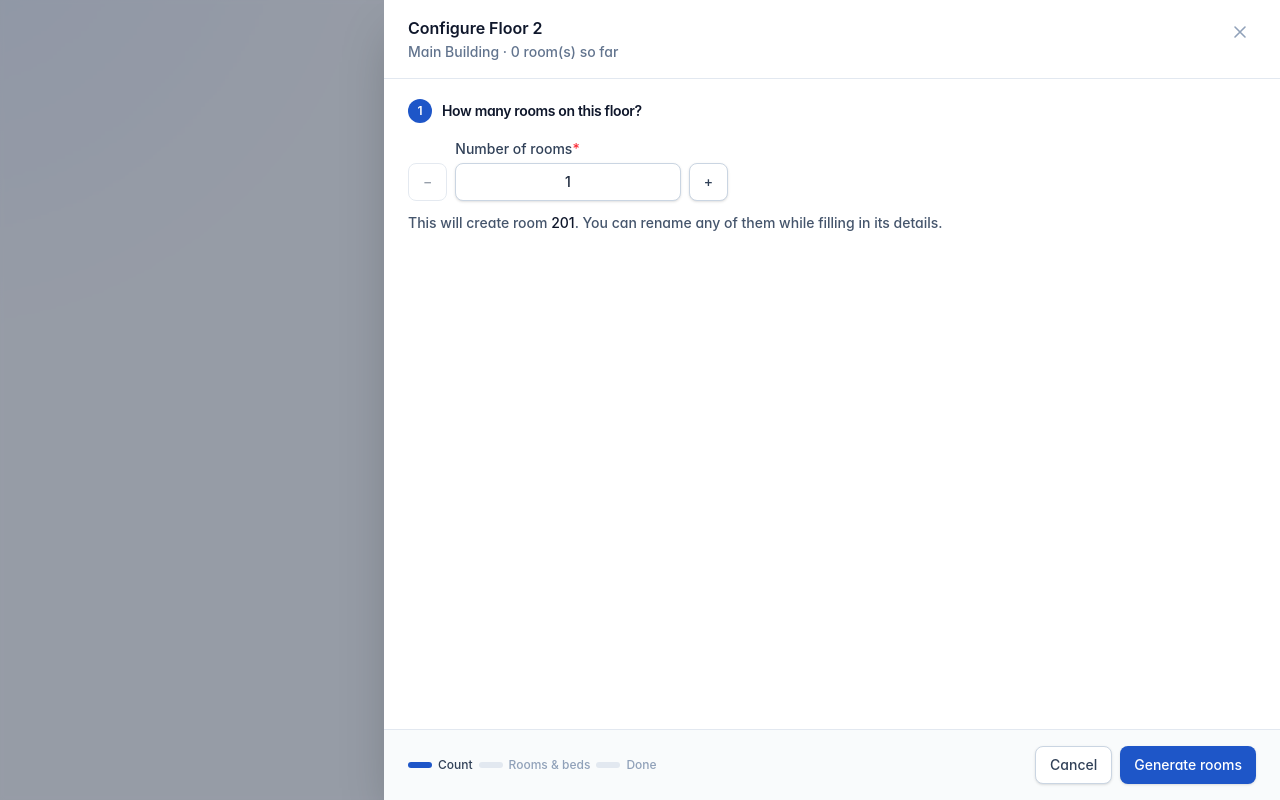
Test: ConfigureFloorDrawer › previews the auto-generated numbers before creating anything
The image size is (1280, 800).
Replace the text in the field labelled "Number of rooms*" with "3" at (568, 182), box [455,163,681,201]
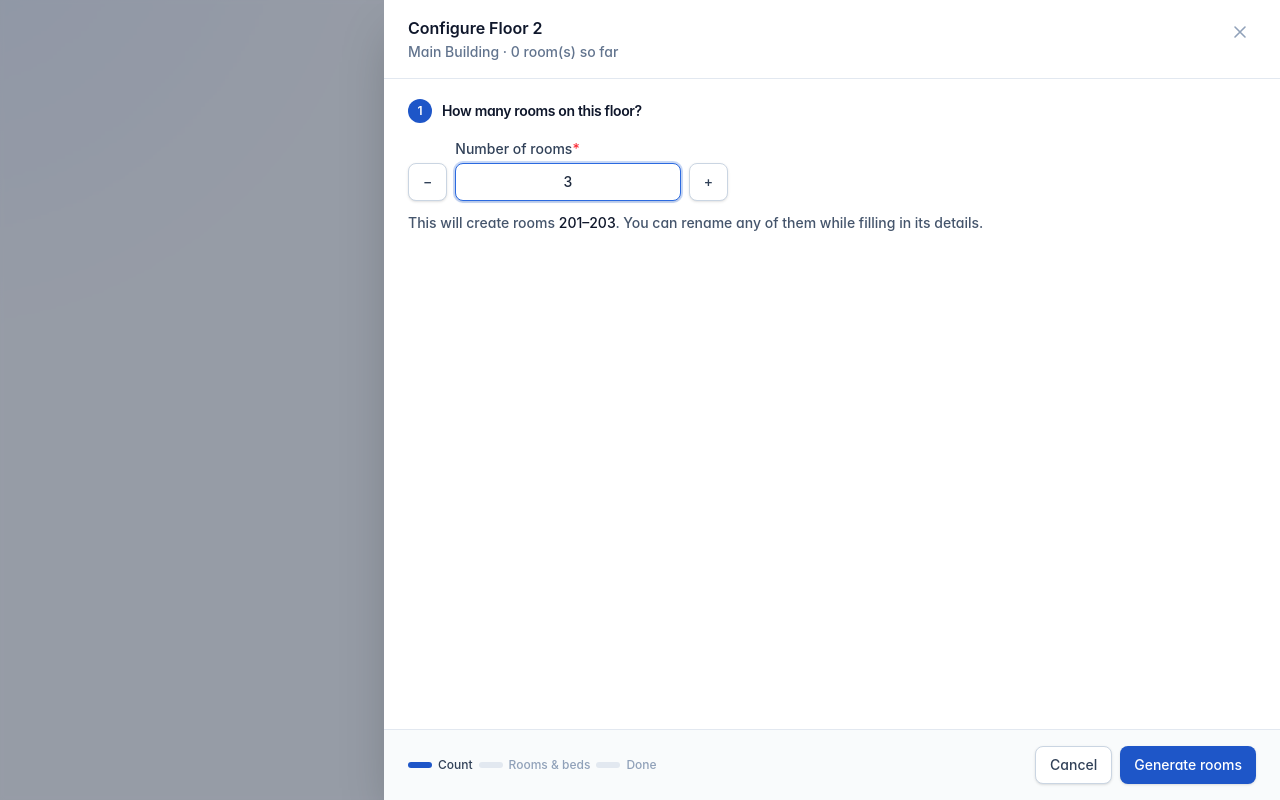
Result: the text "201–203" is shown at [559,214,615,231]
